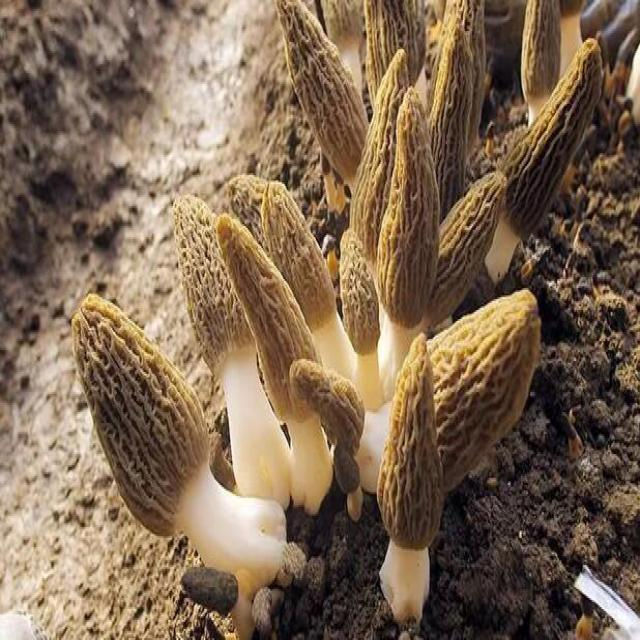Morchella esculenta: (72, 293, 285, 584), (173, 193, 330, 507), (499, 37, 602, 274), (375, 336, 443, 624), (280, 0, 365, 187), (385, 83, 438, 374), (293, 355, 388, 481)
